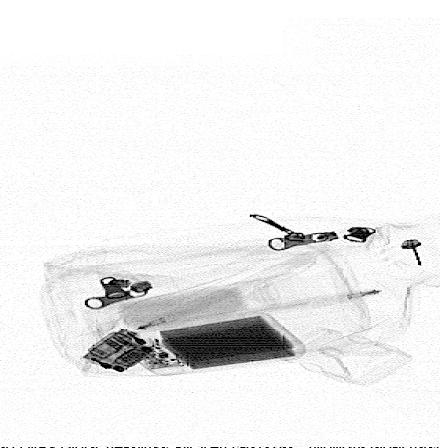Powerbank: (125, 313, 311, 376)
